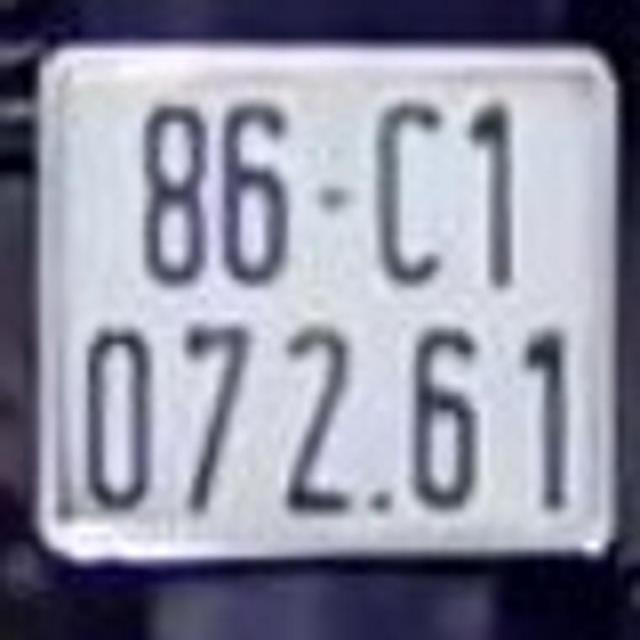0: (74, 312, 156, 525)
1: (510, 300, 590, 540), (460, 78, 526, 294)
2: (279, 298, 356, 536)
6: (399, 292, 490, 532), (215, 78, 293, 304)
7: (171, 304, 256, 538)
8: (128, 90, 211, 293)
C: (366, 80, 446, 295)
